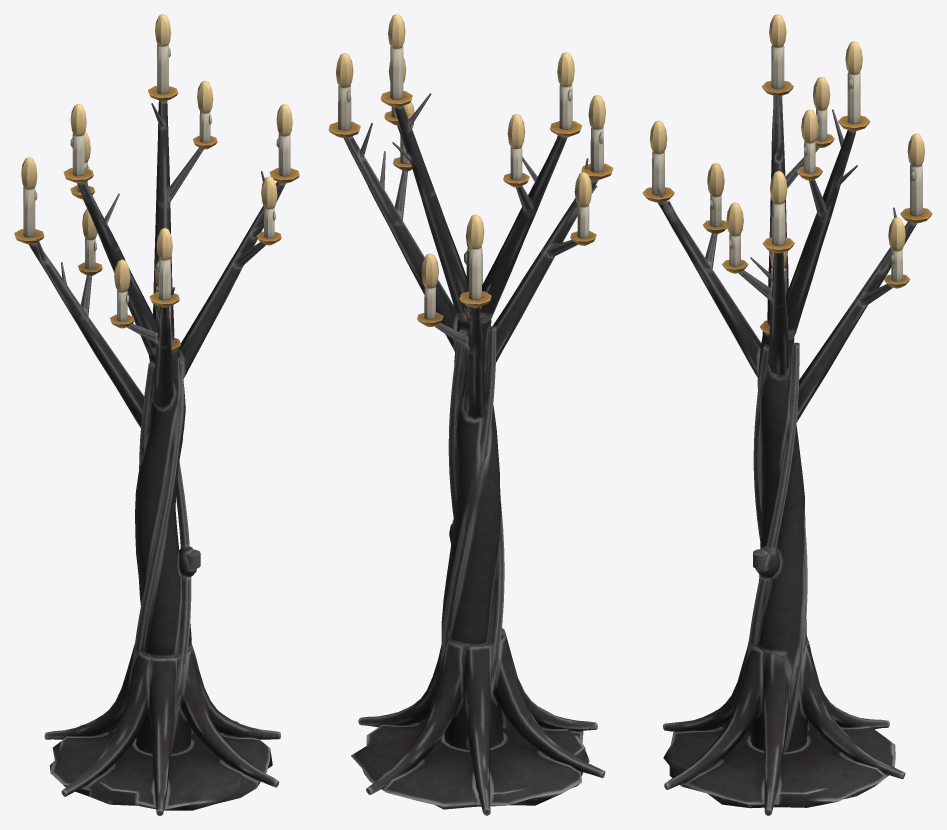
File: CandelabraDeadTree.fbx
The picture shows the model from 3 angles, left to right: view 1: azimuth 30°, elevation 25°; view 2: azimuth 150°, elevation 25°; view 3: azimuth 270°, elevation 25°; orthographic projection. The views are drawn at different scales.
Visible parts, largest first — view 1: CandelabraDeadTree_Main, CandelabraDeadTree_Glow; view 2: CandelabraDeadTree_Main, CandelabraDeadTree_Glow; view 3: CandelabraDeadTree_Main, CandelabraDeadTree_Glow.
Part boxes in pixels (bbox=[...]): CandelabraDeadTree_Main: bbox=[14, 44, 299, 815]; CandelabraDeadTree_Glow: bbox=[21, 14, 292, 292]; CandelabraDeadTree_Main: bbox=[328, 46, 613, 815]; CandelabraDeadTree_Glow: bbox=[336, 14, 605, 288]; CandelabraDeadTree_Main: bbox=[642, 45, 932, 815]; CandelabraDeadTree_Glow: bbox=[650, 14, 924, 267].
Bounding box in the file's own units: 203 × 563 × 200.
